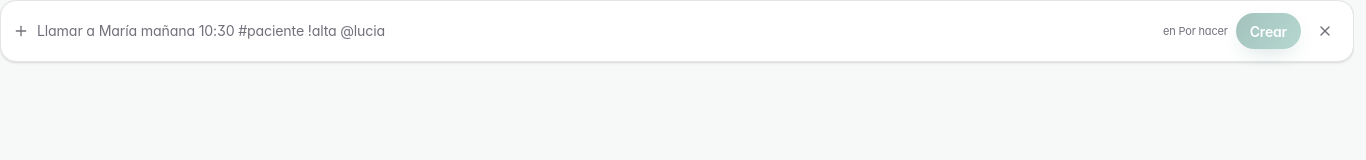
Test: QuickAdd — vista previa › refleja categoría, prioridad, fecha, asignado y etiquetas
Type "Llamar a Maria mañana 10:30 #paciente #revision !alta @marta" into the field with placeholder "Llamar a María mañana 10:30 #paciente !alta @lucia".
click(596, 31); type("Llamar a Maria mañana 10:30 #paciente #revision !alta @marta")  # box [37,20,1155,42]
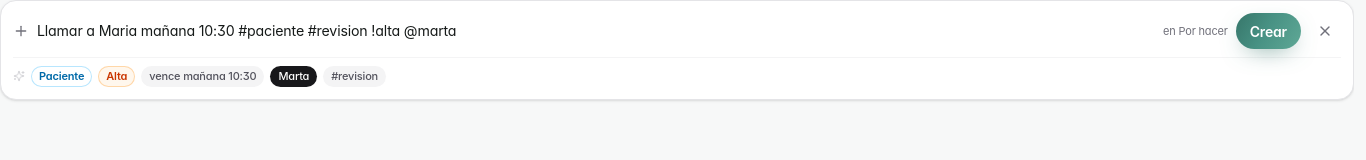
expect the text "Paciente" is shown: met, box [31,66,92,86]
expect the text "Alta" is shown: met, box [98,66,135,86]
expect the text "vence mañana 10:30" is shown: met, box [141,66,264,86]
